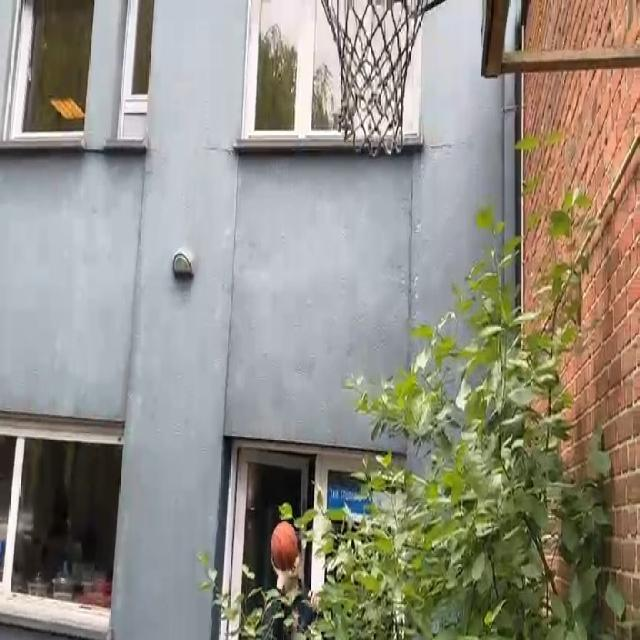Basketball: (270, 522, 300, 573)
